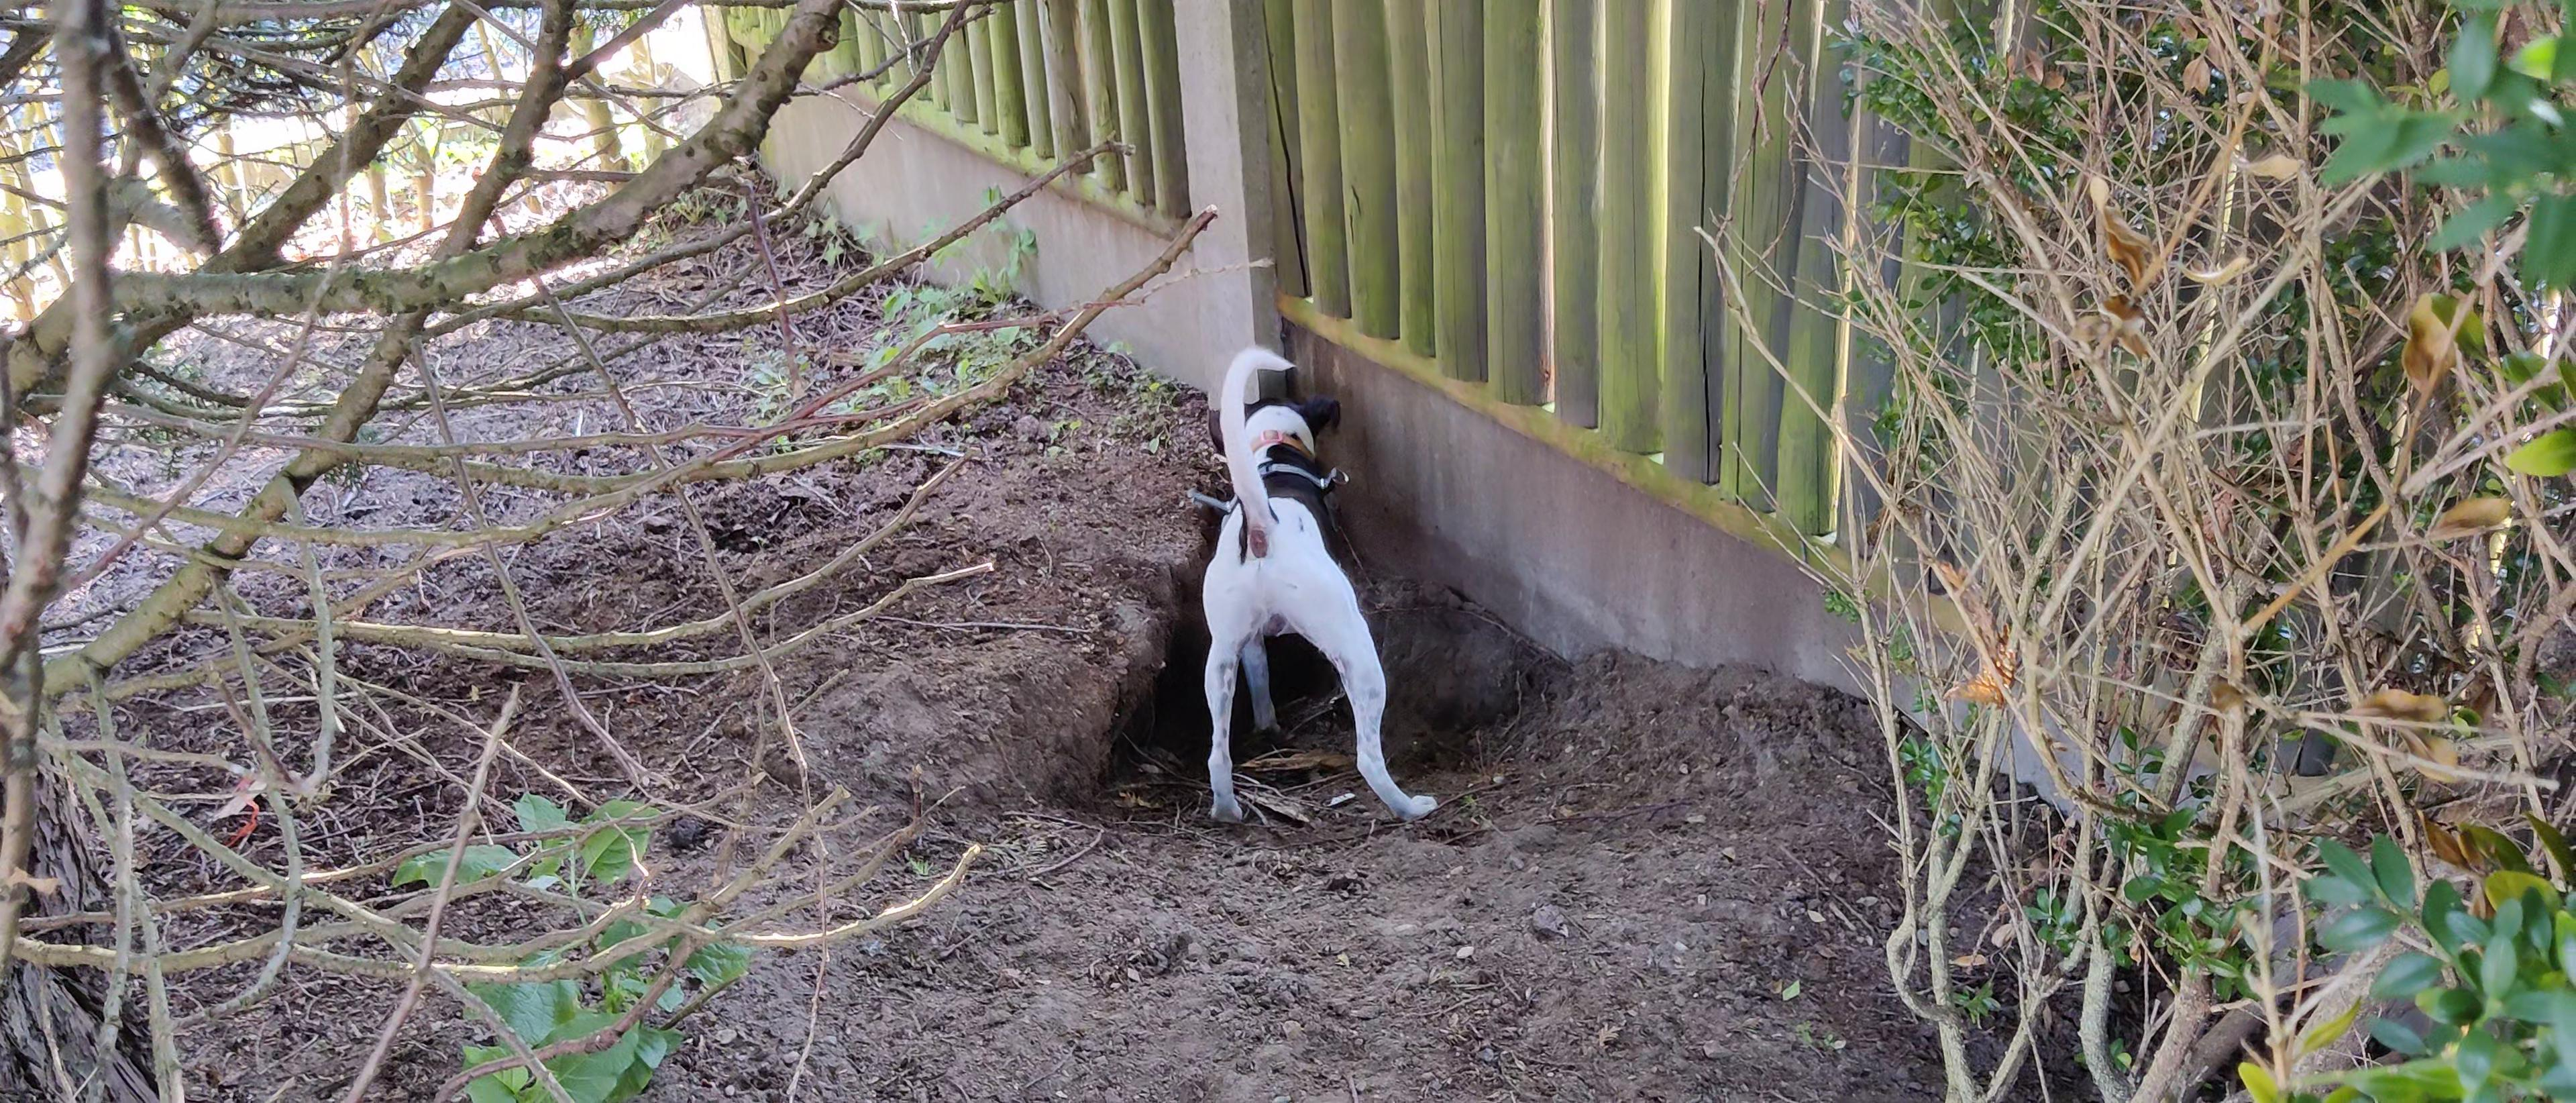Dog: (1157, 309, 1460, 853)
